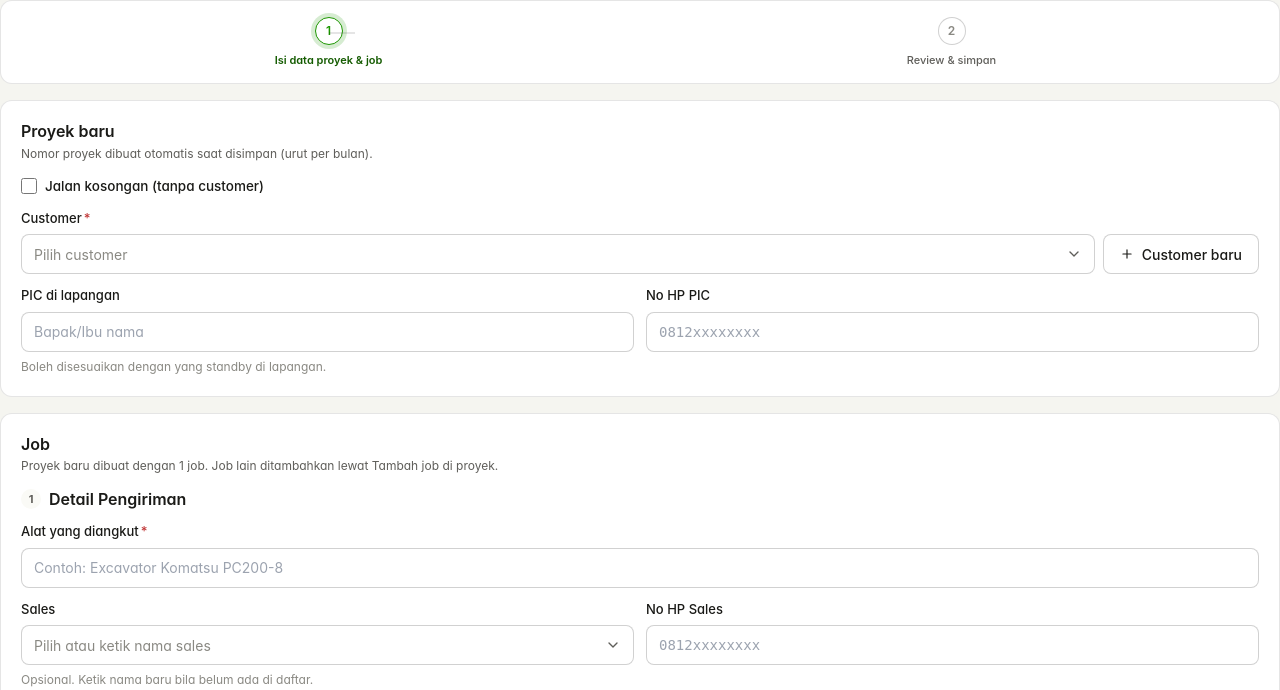
Test case: Customer & PIC proyek › menolak No HP PIC dengan format salah
Click the button with class "combobox-trigger" showing "Pilih customer" at (81, 254), box 21,234 -> 1095,274
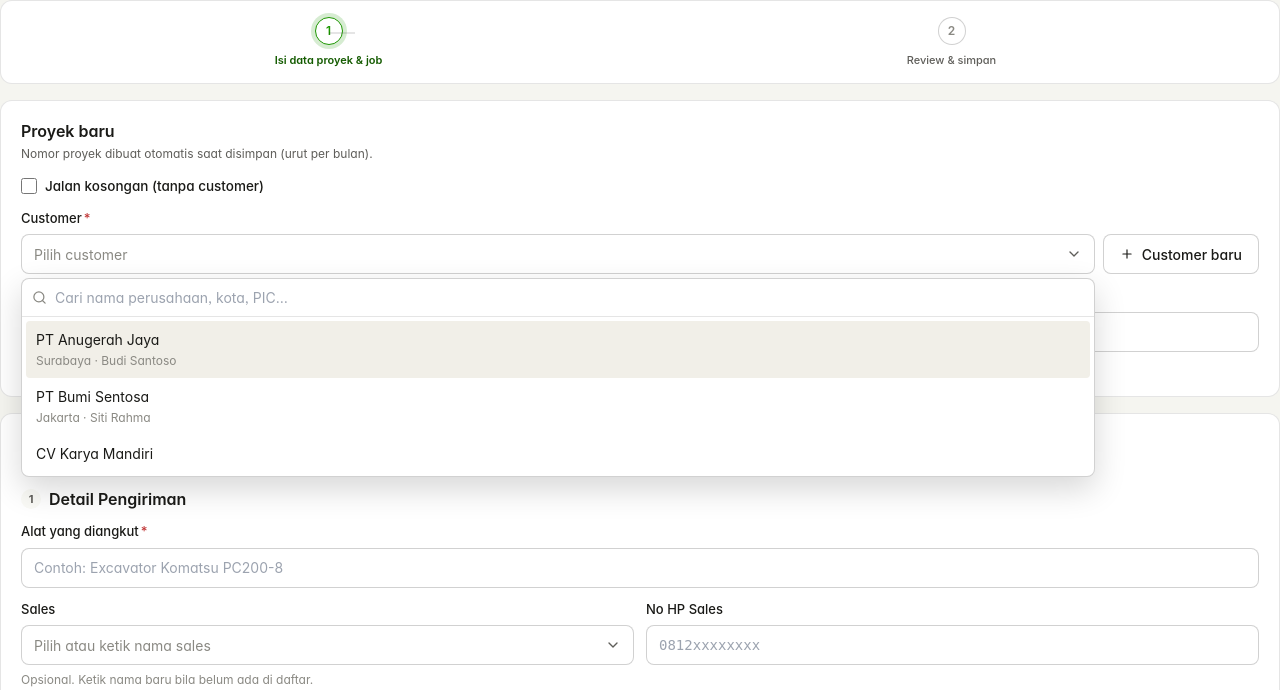
Click the text "PT Anugerah Jaya" at (98, 340), box 36,331 -> 159,348
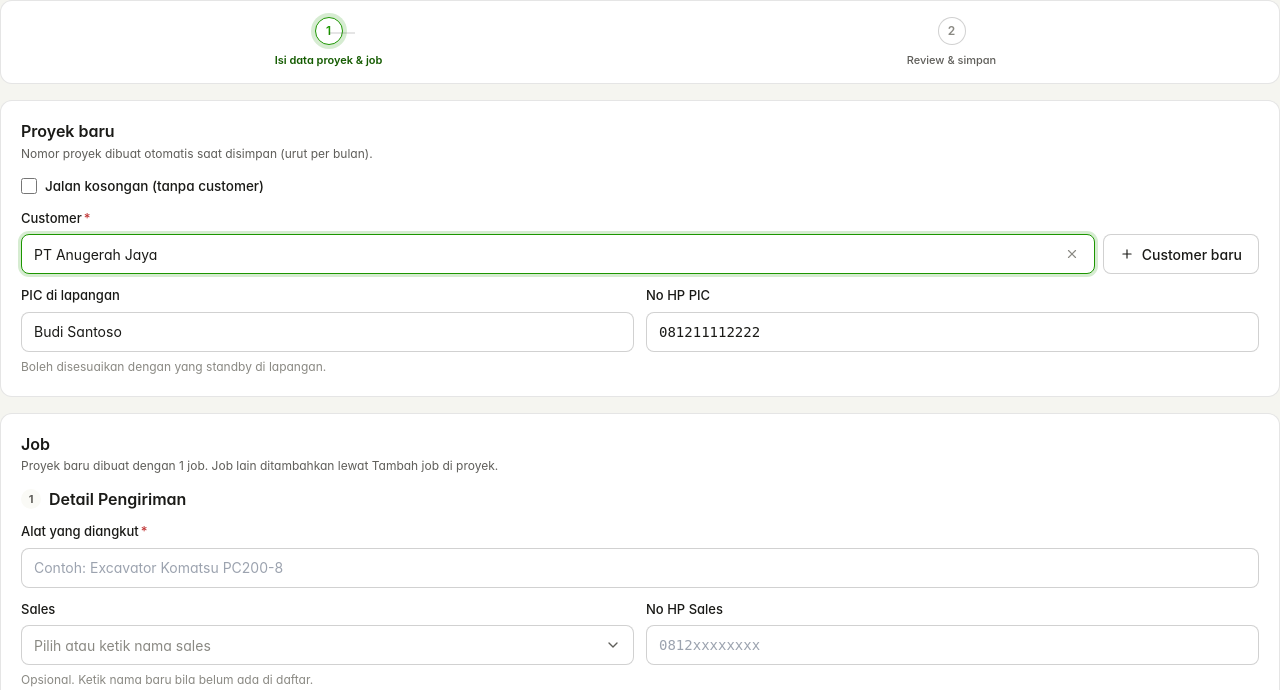
Replace the text in the field below "No HP PIC" with "12345" at (952, 332), box 646,312 -> 1259,352
(page scrolled)
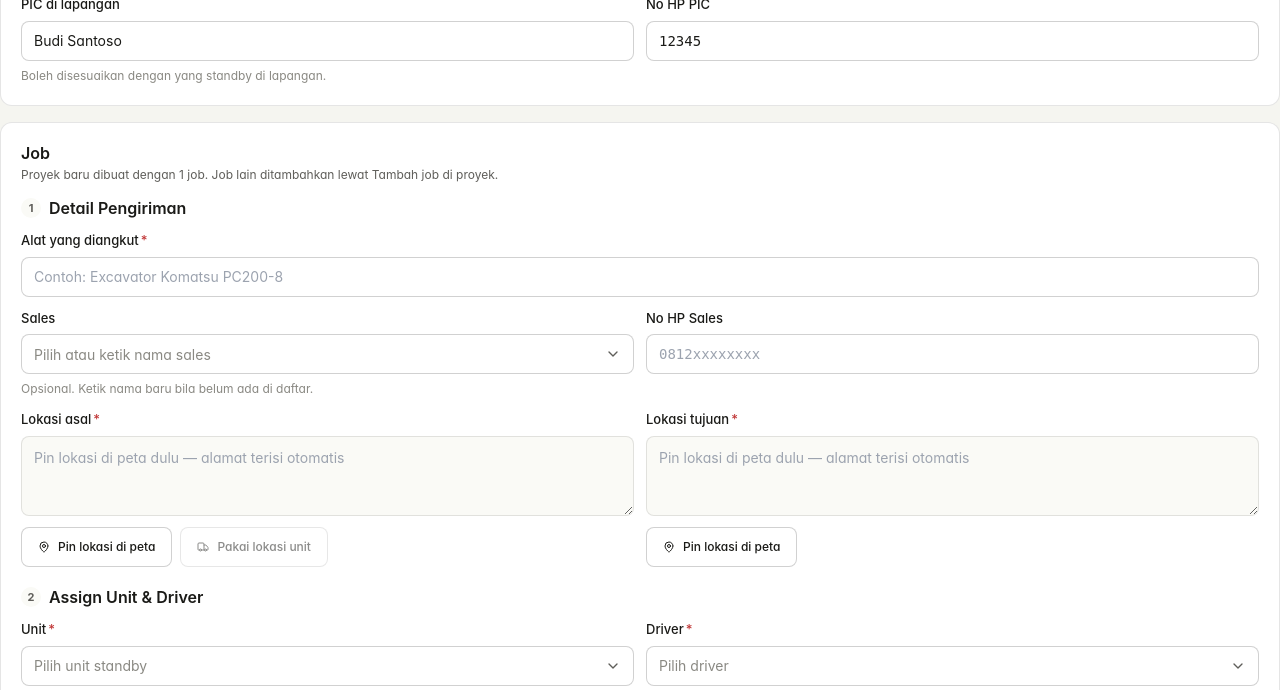
Submit the form
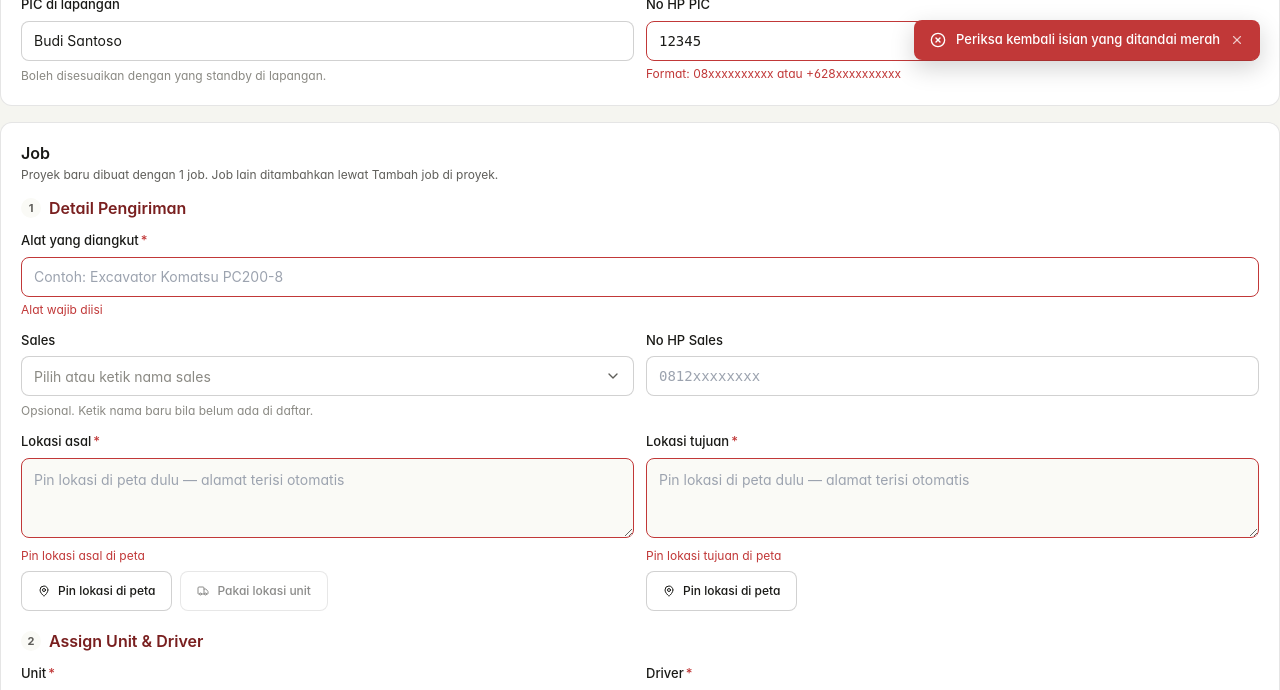
Check: the text "Format: 08xxxxxxxxxx atau +628xxxxxxxxxx" is shown, box 646,66 -> 901,80
